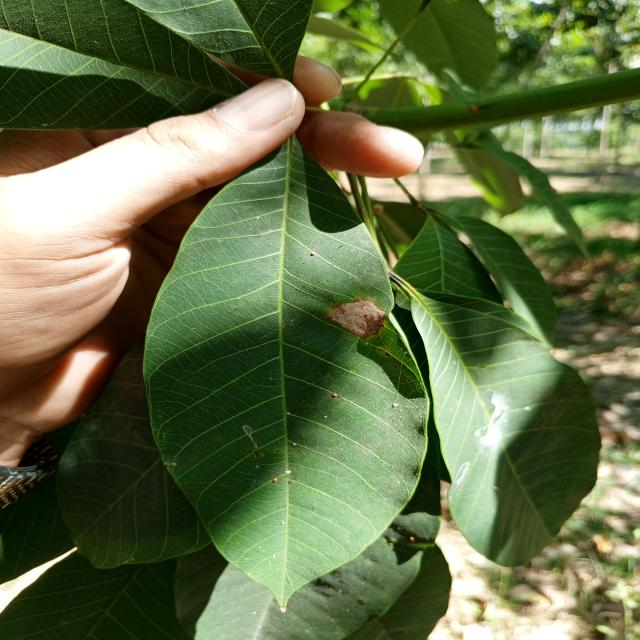Leaf-Blight: (327, 298, 386, 340)
